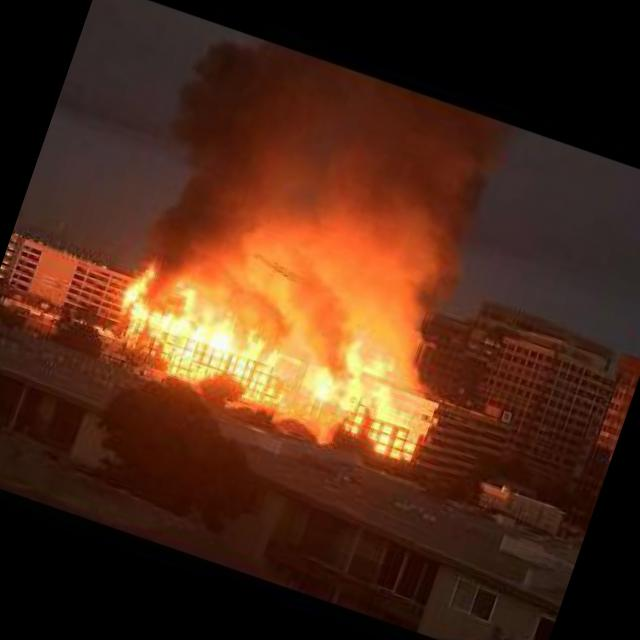fire: (94, 254, 457, 476)
smoke: (121, 18, 530, 362)
